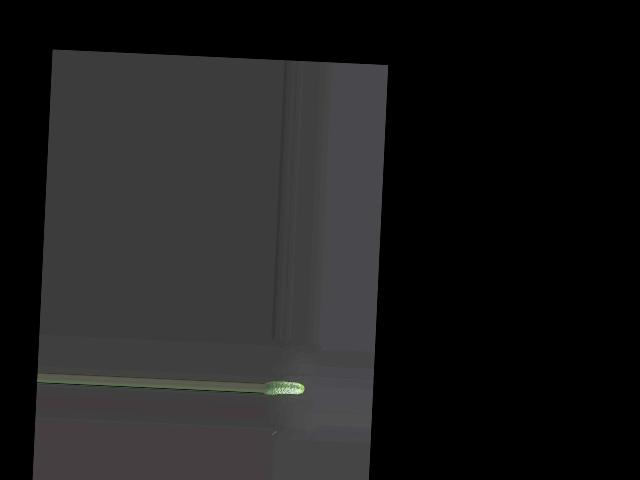cucumber: (262, 380, 304, 397)
